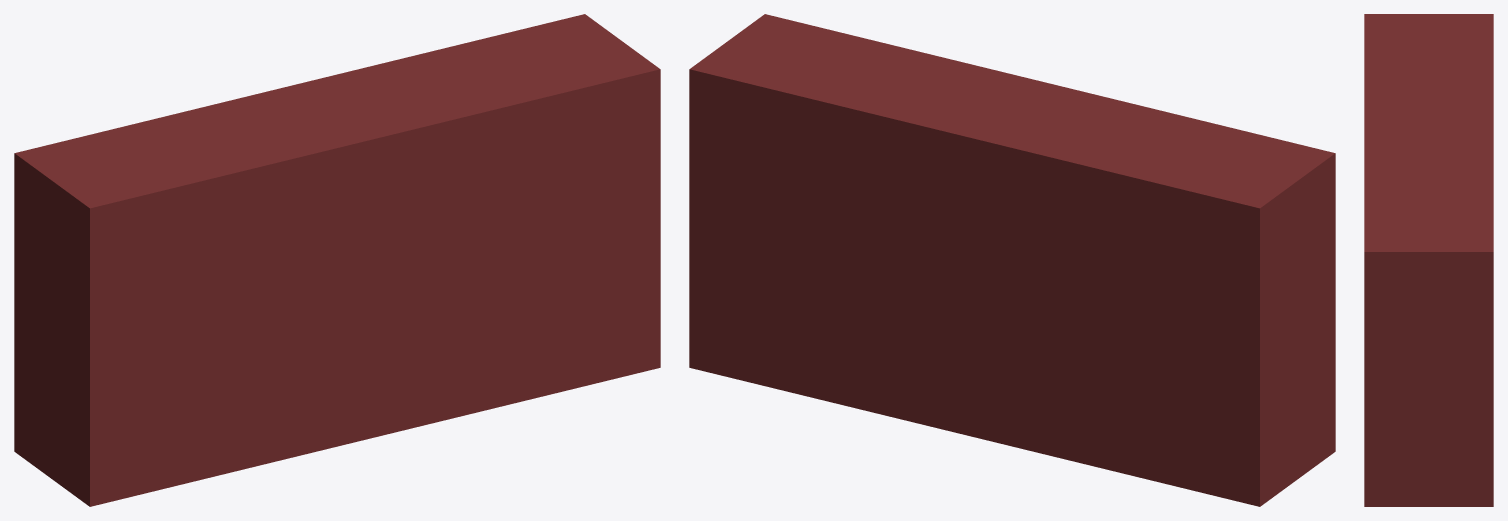
3 views of the same model, side by side, from view 1: azimuth 30°, elevation 25°; view 2: azimuth 150°, elevation 25°; view 3: azimuth 270°, elevation 25° (orthographic). The views are drawn at different scales.
Visible parts, largest first — view 1: collision; view 2: collision; view 3: collision.
Part boxes in pixels (box(x1,y1,x2,y2)): collision: box(14, 14, 660, 506); collision: box(689, 14, 1335, 506); collision: box(1364, 14, 1493, 506).
Bounding box in the file's own units: 2.4 × 1.2 × 0.55.
